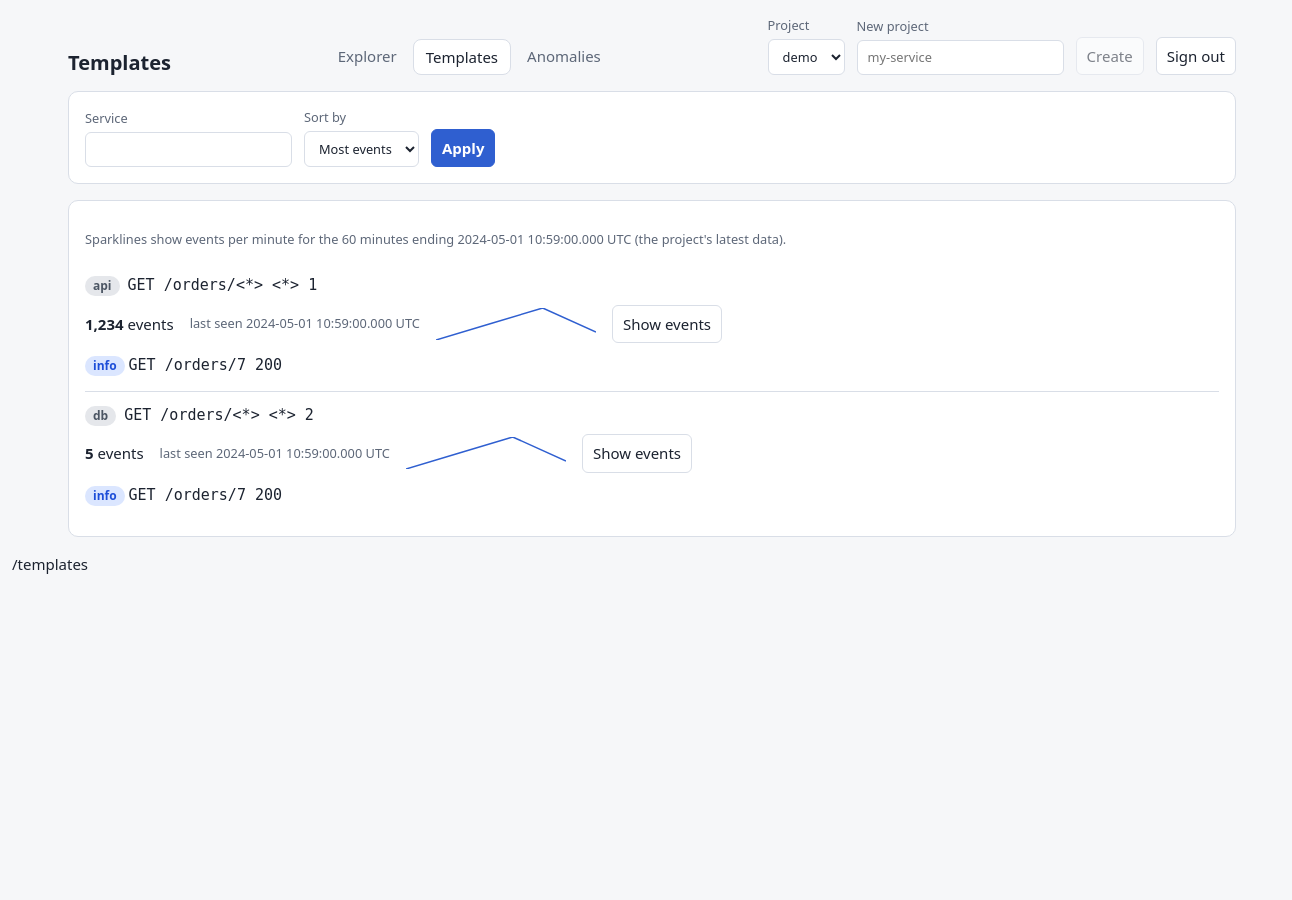
templates page › loads a template's events on demand and follows the cursor
Expected: the text "GET /orders/<*> <*> 1" is shown, [128,274,317,297]
What coordinates should you click on to do the following:
click the button "Show events" in the row of "1,234"
I would click on:
 (667, 324)
Its box is [612,305,722,343].
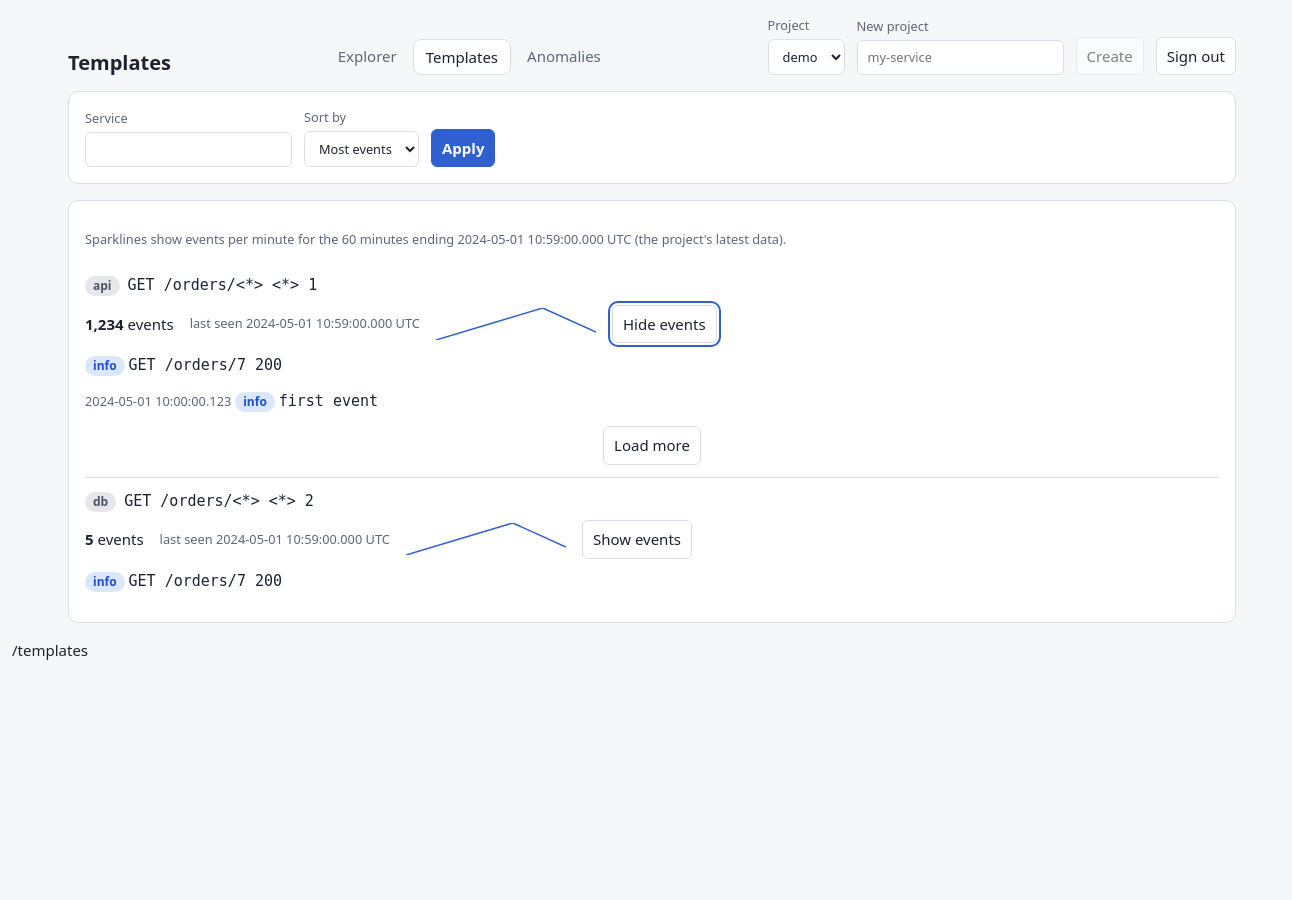
Expected: the text "first event" is shown, [279,392,378,410]
What coordinates should you click on to do the following:
click the button "Load more"
I would click on:
 (652, 445)
Its box is [603,426,701,465].
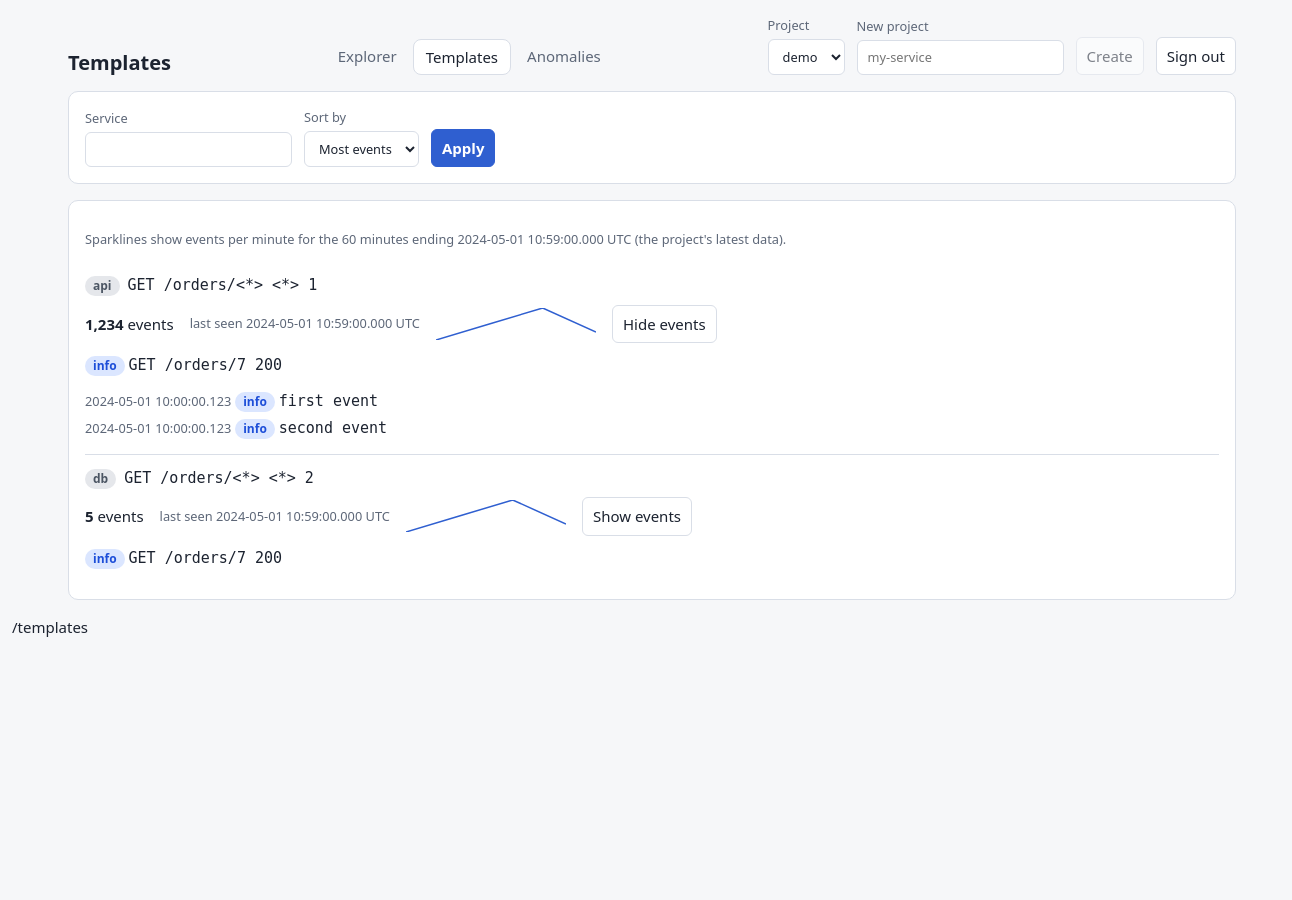
Expected: the text "first event" is shown, [279,392,378,410]
Expected: the text "second event" is shown, [279,419,387,437]
